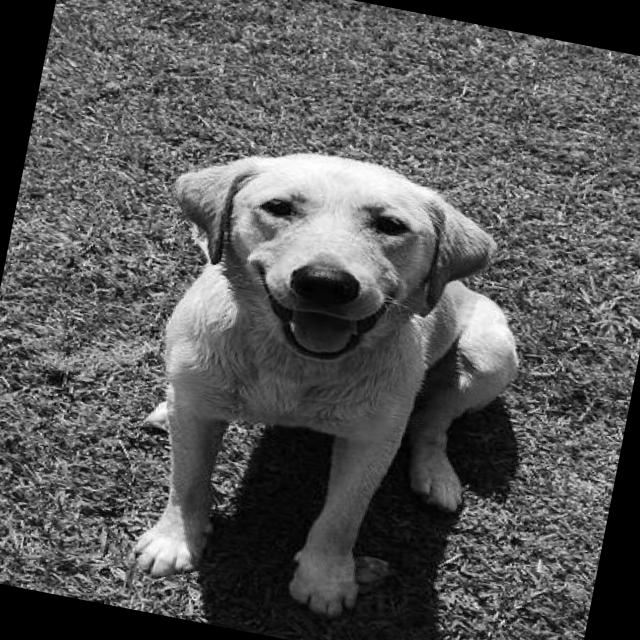sitting: (68, 113, 574, 640)
